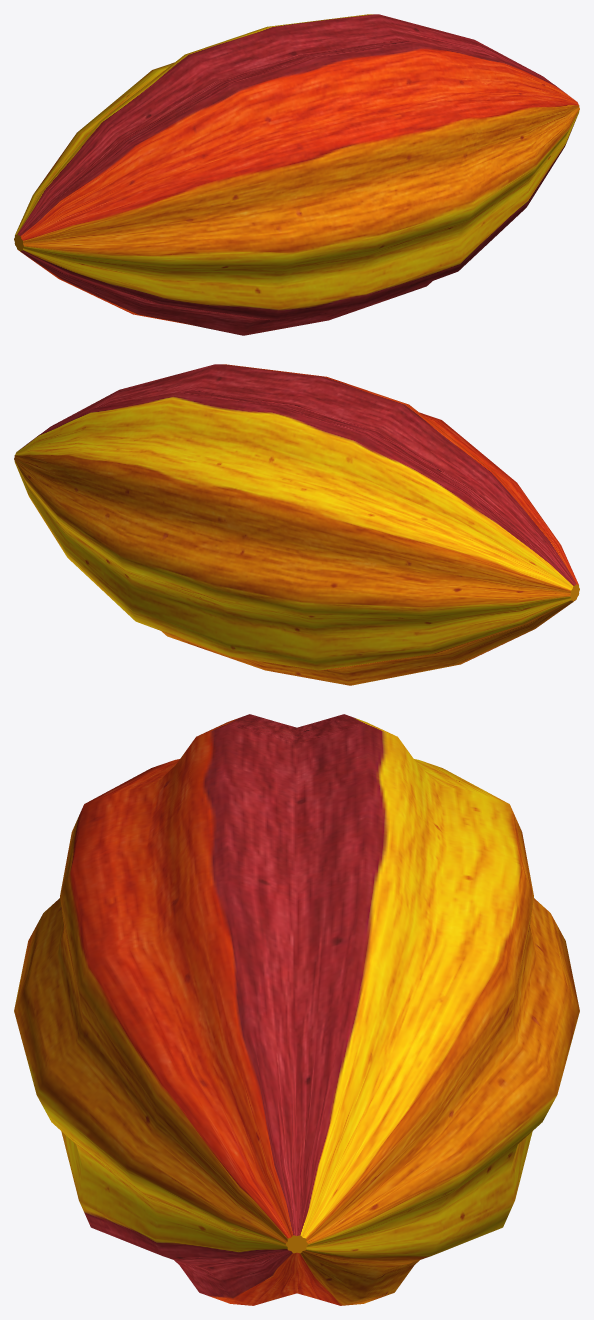
The model's file is cocoa_pod-Dh9AO-XX.glb.
3 renders of one model, top to bottom at view 1: azimuth 30°, elevation 25°; view 2: azimuth 150°, elevation 25°; view 3: azimuth 270°, elevation 25°, orthographic. The views are drawn at different scales.
Visible parts, largest first — view 1: HI_cocoa_pod; view 2: HI_cocoa_pod; view 3: HI_cocoa_pod.
Part boxes in pixels (left/top/right/bottom): HI_cocoa_pod: left=14, top=14, right=579, bottom=335; HI_cocoa_pod: left=14, top=364, right=579, bottom=685; HI_cocoa_pod: left=14, top=714, right=579, bottom=1305.
Bounding box in the file's own units: 1.6 × 0.7 × 0.82.
1 material, 1 textured.
